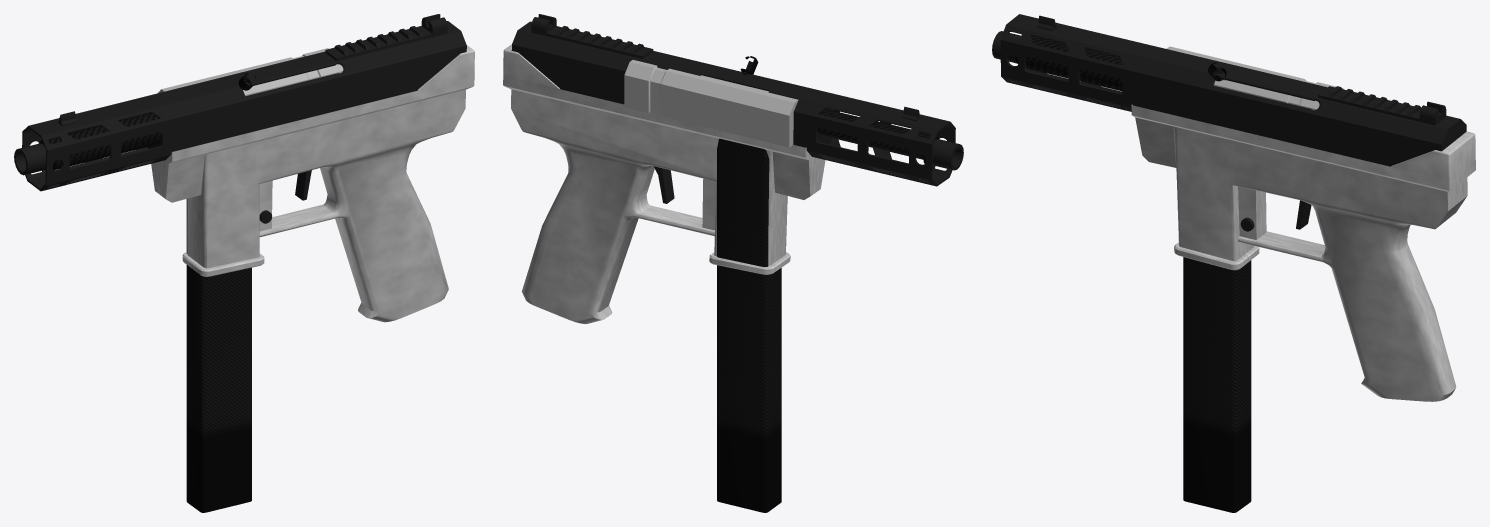
The model's file is Space_Tec_9.fbx.
3 renders of one model, left to right at view 1: azimuth 30°, elevation 25°; view 2: azimuth 150°, elevation 25°; view 3: azimuth 330°, elevation 25°, orthographic. The views are drawn at different scales.
Parts seen in each view (by area): view 1: Wapon Body, Chamber, Magazin, Bolt; view 2: Wapon Body, Magazin, Chamber, Bolt; view 3: Wapon Body, Chamber, Magazin, Bolt.
Part boxes in pixels (box(x1,y1,x2,y2)): Wapon Body: box(151, 45, 474, 322); Chamber: box(14, 14, 466, 223); Magazin: box(186, 199, 251, 512); Bolt: box(158, 48, 343, 96); Wapon Body: box(503, 44, 825, 324); Magazin: box(717, 138, 781, 512); Chamber: box(511, 14, 963, 186); Bolt: box(624, 56, 798, 147); Wapon Body: box(1131, 104, 1475, 401); Chamber: box(992, 14, 1466, 231); Magazin: box(1183, 257, 1251, 512); Bolt: box(1166, 46, 1343, 110).
Bounding box in the file's own units: 0.3176 × 0.2973 × 0.0375.
